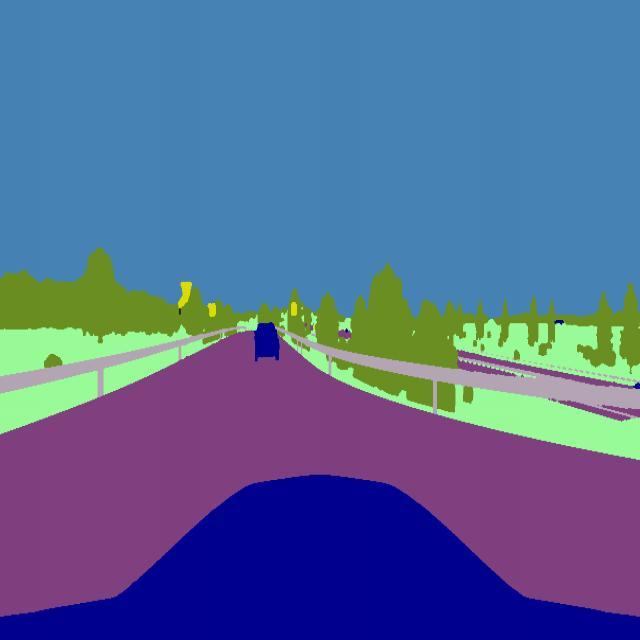safe: (252, 320, 282, 366)
